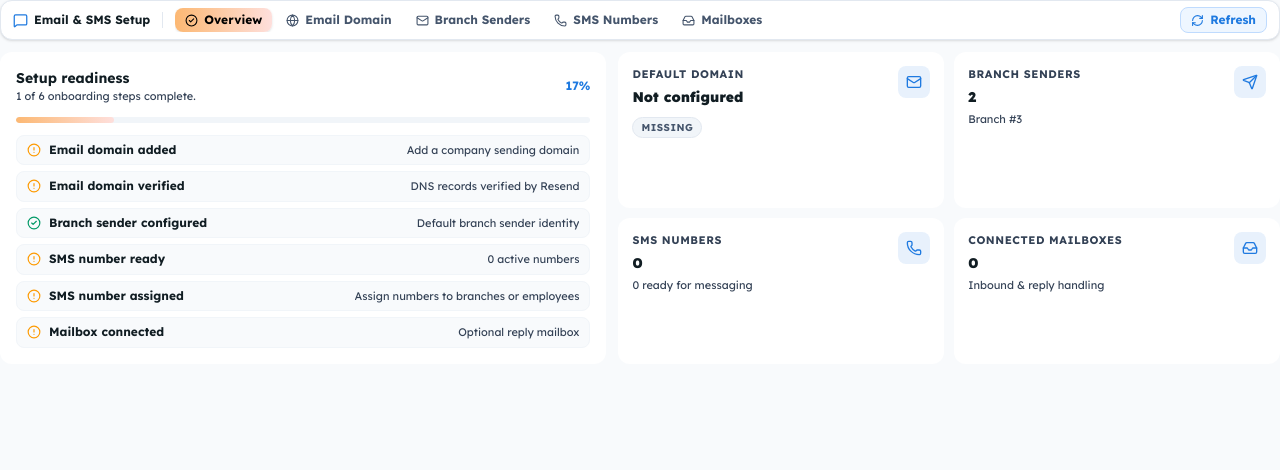
Test: uses the branch default email in both the dropdown and sender form
What coordinates should you click on to do the following:
click the button "Branch Senders"
I would click on:
 (473, 20)
Its box is [406,8,540,32].
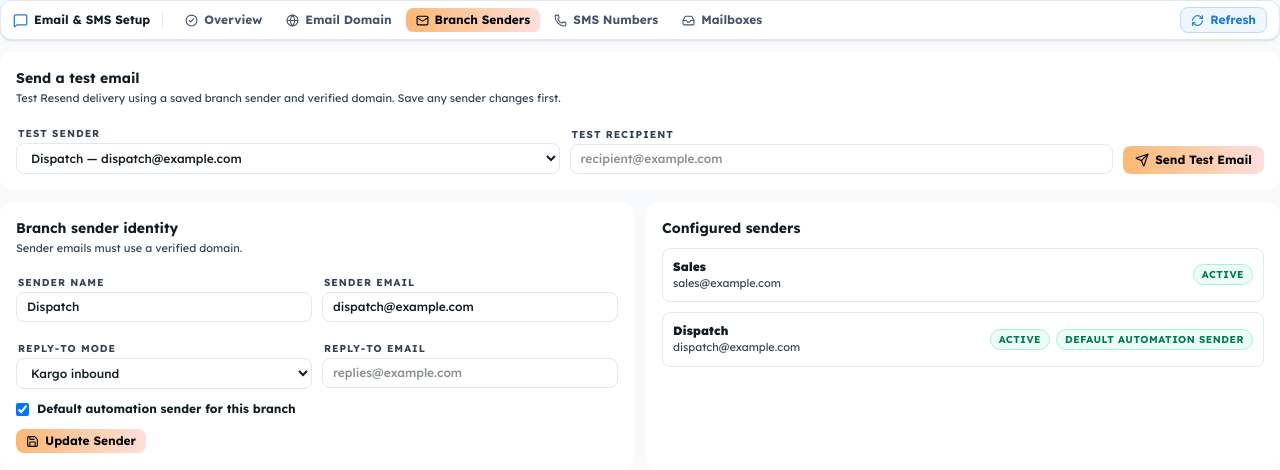
Now the dropdown labelled "Test sender" shows "Dispatch — dispatch@example.com", box [16,142,560,174]
Now the field labelled "Sender email" holds "dispatch@example.com", box [322,292,618,322]
